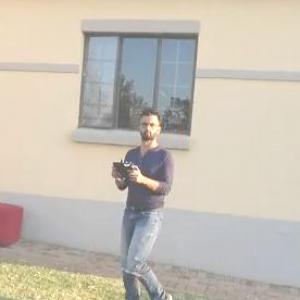follow: (104, 103, 178, 299)
